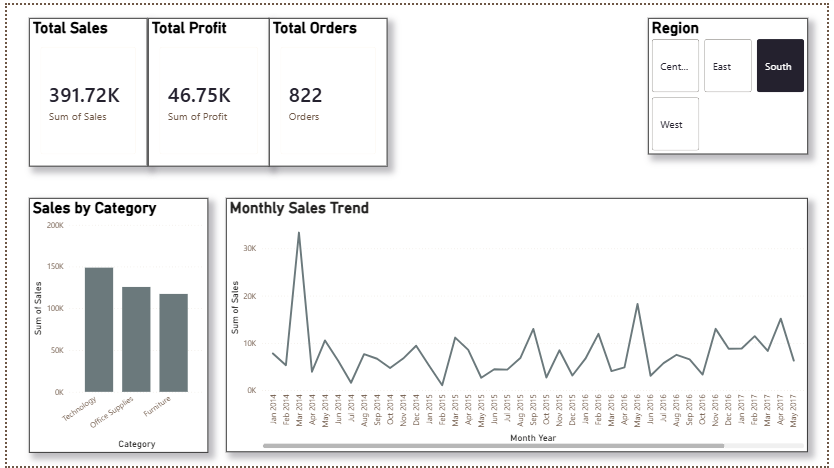

What the dashboard file says about the page in this screenshot:
{"tool":"powerbi","page":{"name":"Page 1","canvas":[1280,720],"ordinal":0},"visuals":[{"type":"cardVisual","title":"Total Sales","fields":{"Data":["Sum(Sample - Superstore.Sales)"]},"box":[35,20,185,231.7],"z":0},{"type":"cardVisual","title":"Total Profit","fields":{"Data":["Sum(Sample - Superstore.Profit)"]},"box":[220,20,190,231.7],"z":1000},{"type":"cardVisual","title":"Total Orders","fields":{"Data":["Sample - Superstore.Orders"]},"box":[410,20,185,231.7],"z":2000},{"type":"clusteredColumnChart","title":"Sales by Category","fields":{"Y":["Sum(Sample - Superstore.Sales)"],"Category":["Sample - Superstore.Category"]},"box":[35.1,301.1,279.8,397.9],"z":3000},{"type":"lineChart","title":"Monthly Sales Trend","fields":{"Y":["Sum(Sample - Superstore.Sales)"],"Category":["Sample - Superstore.Month Year"]},"box":[341.9,301.4,909.5,397.3],"z":4000},{"type":"advancedSlicerVisual","fields":{"Values":["Sample - Superstore.Region"]},"box":[1001.7,20,250,213.3],"z":5000}]}

Visuals, with their boxes in screenshot pixels (x1, y1, x2, y2), scaled from the page's 1280x720 canvas onto the 834x468 screenshot:
"Total Sales" cardVisual: x1=23 y1=13 x2=143 y2=164
"Total Profit" cardVisual: x1=143 y1=13 x2=267 y2=164
"Total Orders" cardVisual: x1=267 y1=13 x2=388 y2=164
"Sales by Category" clusteredColumnChart: x1=23 y1=196 x2=205 y2=454
"Monthly Sales Trend" lineChart: x1=223 y1=196 x2=815 y2=454
advancedSlicerVisual - Sample - Superstore.Region: x1=653 y1=13 x2=816 y2=152
